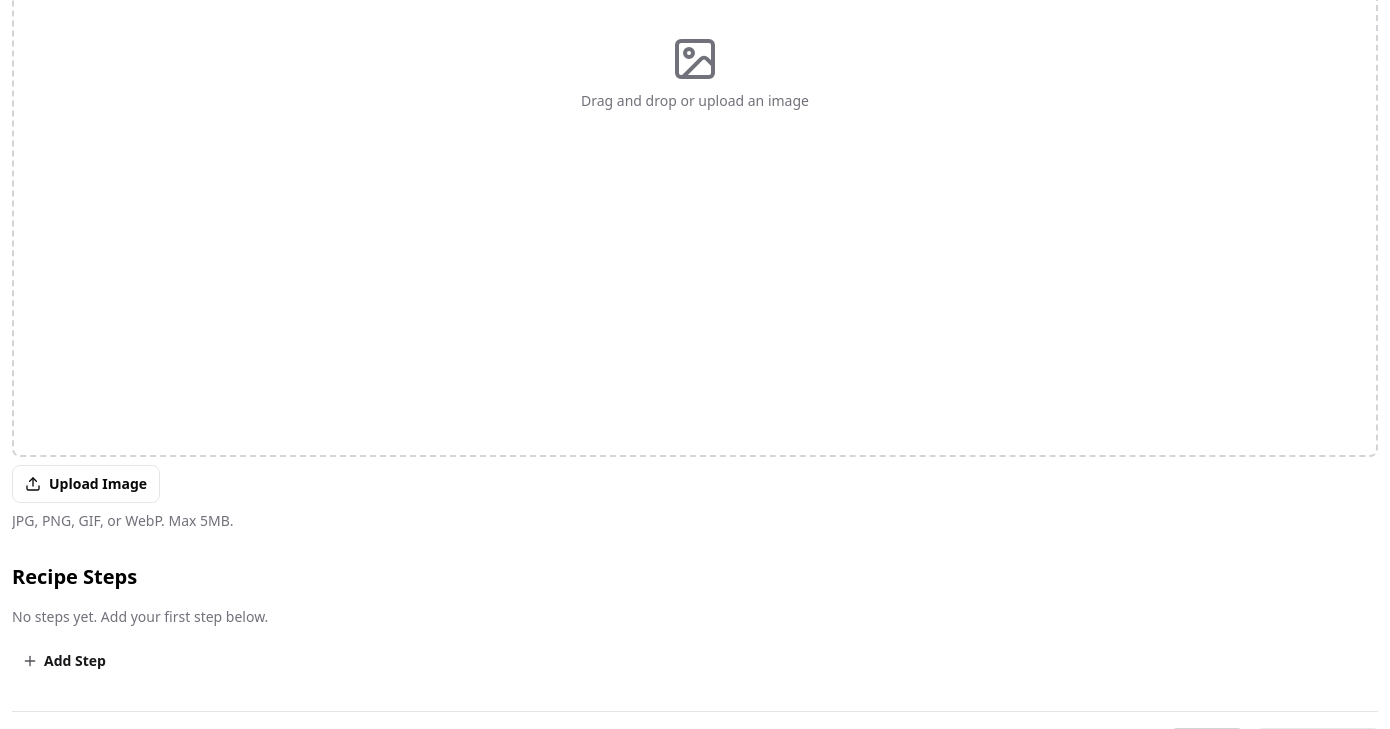
RecipeBuilder › step management › can add steps via StepList
(page scrolled)
Check: the text "No steps yet. Add your first step below." is shown, box [12,607,268,626]
Click add step
Click the button "Add Step": click(65, 661) [12,643,118,679]
(page scrolled)
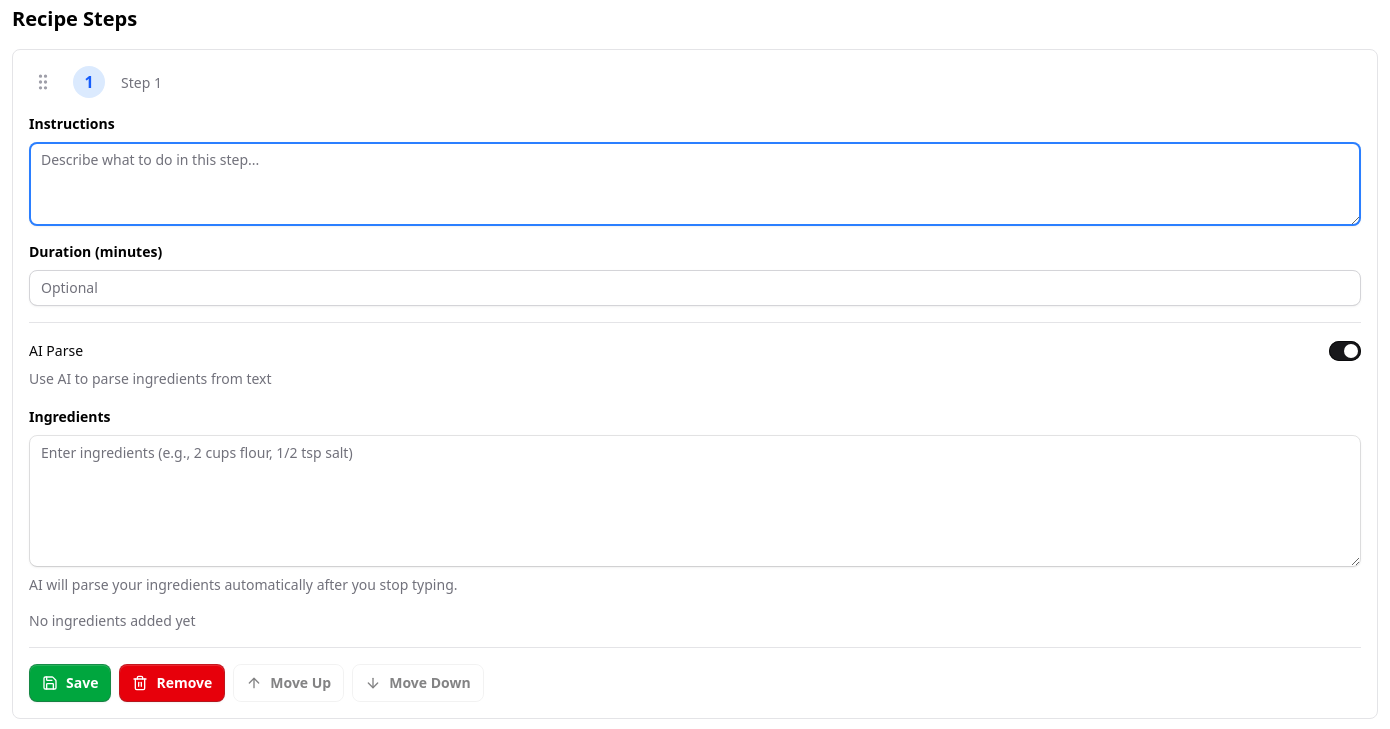
Check: the element labelled "Step 1" is shown
Check: the text "No steps" is gone
